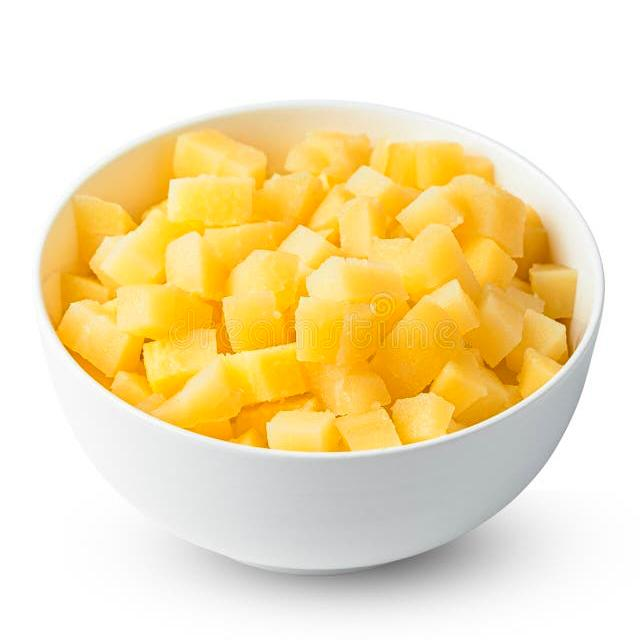potato: (81, 135, 560, 418)
